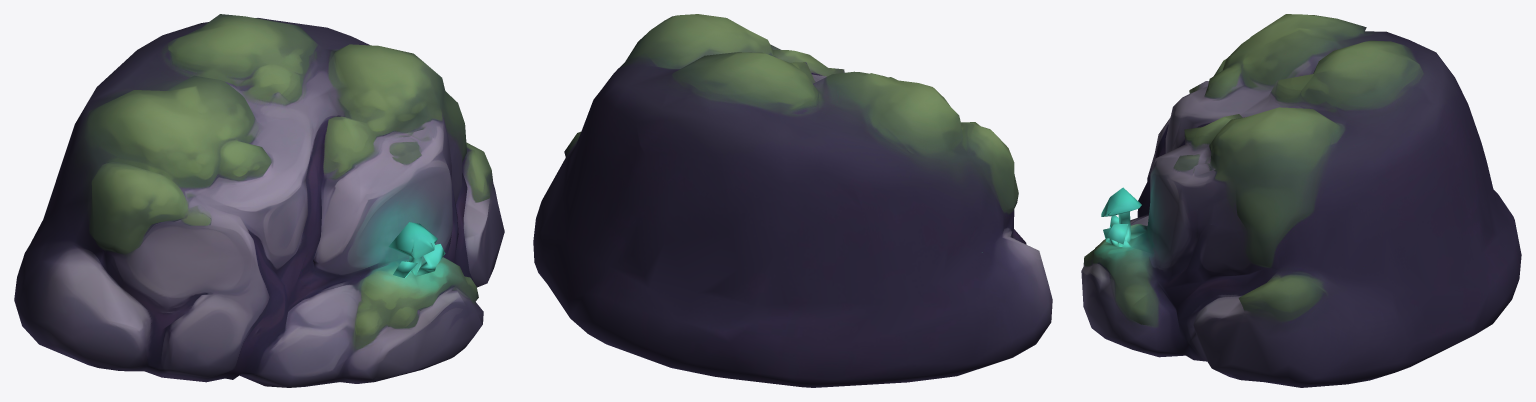
The model's file is env_rock_2m_a.glb.
3 renders of one model, left to right at view 1: azimuth 30°, elevation 25°; view 2: azimuth 150°, elevation 25°; view 3: azimuth 270°, elevation 25°, orthographic. The views are drawn at different scales.
Visible parts, largest first — view 1: tripo_node_e0dc78a2-1c16-42ca-a814-ad77b89c7029; view 2: tripo_node_e0dc78a2-1c16-42ca-a814-ad77b89c7029; view 3: tripo_node_e0dc78a2-1c16-42ca-a814-ad77b89c7029.
Boxes of the visible parts, x1,y1,x2,y2 form: tripo_node_e0dc78a2-1c16-42ca-a814-ad77b89c7029: [14, 14, 504, 387]; tripo_node_e0dc78a2-1c16-42ca-a814-ad77b89c7029: [533, 14, 1052, 387]; tripo_node_e0dc78a2-1c16-42ca-a814-ad77b89c7029: [1081, 14, 1521, 387].
Bounding box in the file's own units: 1 × 0.5312 × 0.8406.
Materials: 1 (1 with a texture image).
